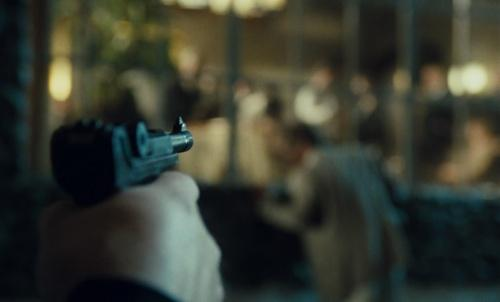Gun: (53, 118, 193, 198)
